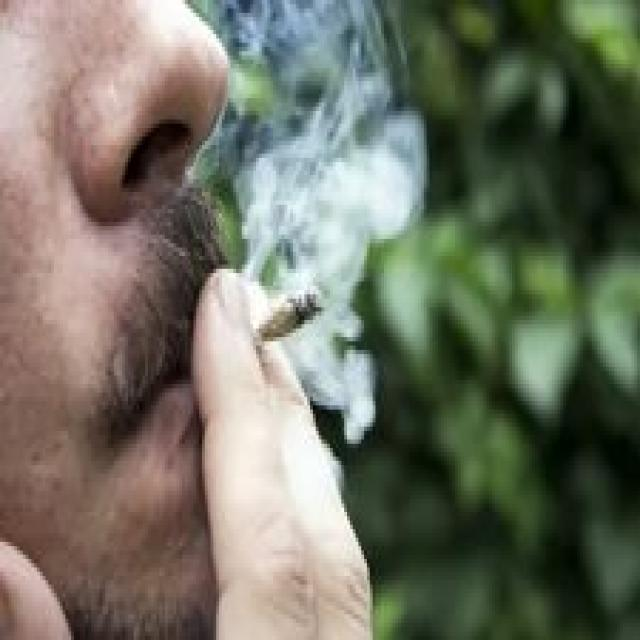smoke: (250, 273, 336, 358)
